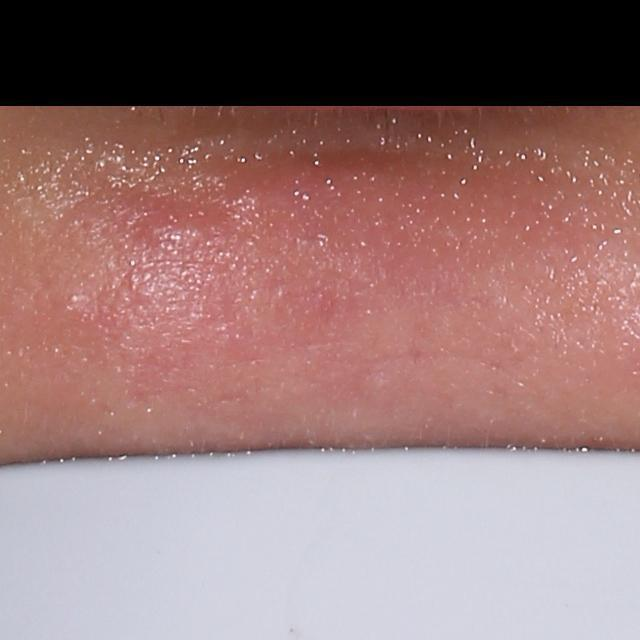papule: (137, 205, 211, 257)
